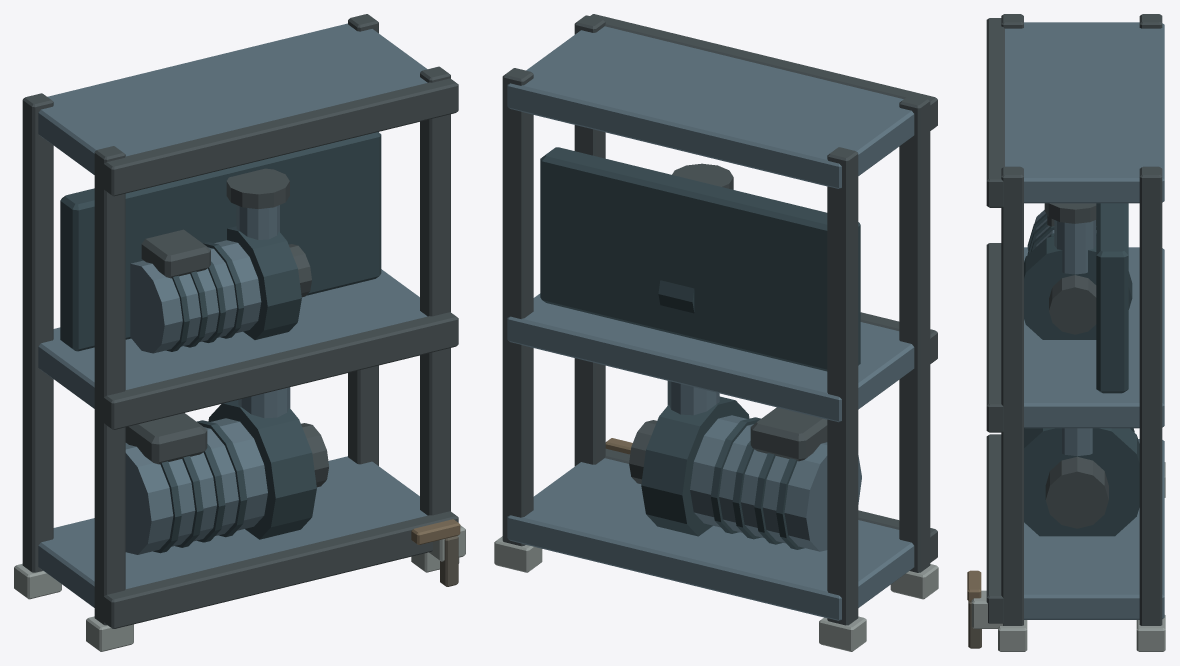
File: WaterworksLowerAccess_MovableRack.fbx
The picture shows the model from 3 angles, left to right: view 1: azimuth 30°, elevation 25°; view 2: azimuth 150°, elevation 25°; view 3: azimuth 270°, elevation 25°; orthographic projection. The views are drawn at different scales.
Parts seen in each view (by area): view 1: WaterworksLower_MovableRack; view 2: WaterworksLower_MovableRack; view 3: WaterworksLower_MovableRack.
Boxes of the visible parts, box(x1,y1,x2,y2) form: WaterworksLower_MovableRack: box(14, 14, 465, 651); WaterworksLower_MovableRack: box(494, 14, 938, 651); WaterworksLower_MovableRack: box(967, 14, 1165, 651).
Bounding box in the file's own units: 1.31 × 1.72 × 0.6475.
